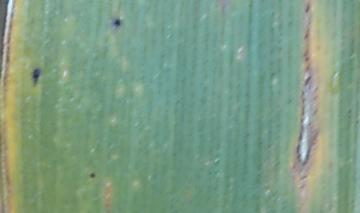tarspot: (30, 66, 41, 89), (111, 16, 123, 29), (303, 1, 313, 15), (303, 74, 312, 87), (87, 170, 97, 179)
